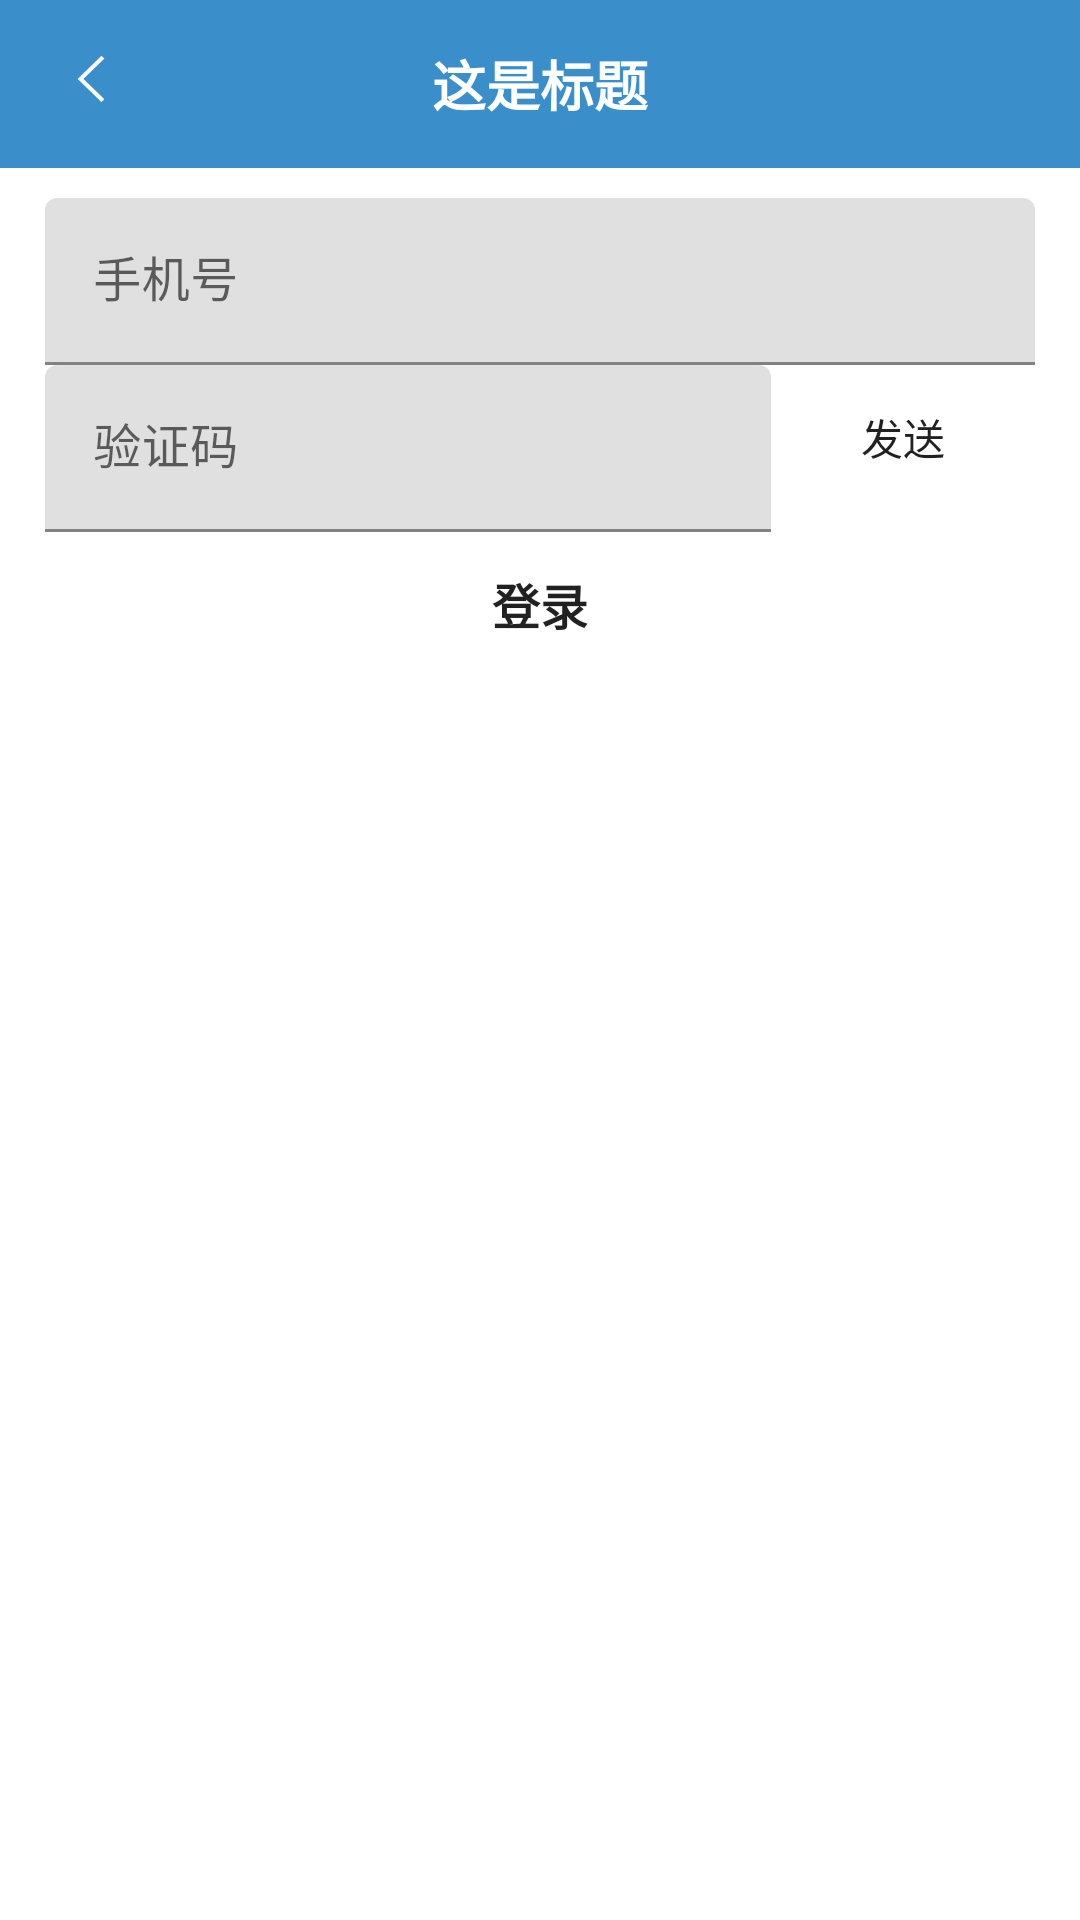

Icons on this 1080×1920 Android screen, each with its box as [x1,y1,x2,y2]:
left arrow: [78,56,105,102]
